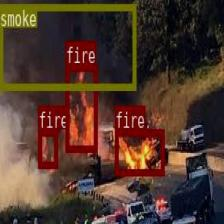fire: (65, 64, 96, 151), (114, 128, 163, 174), (38, 128, 57, 168)
smoke: (0, 2, 135, 88)
